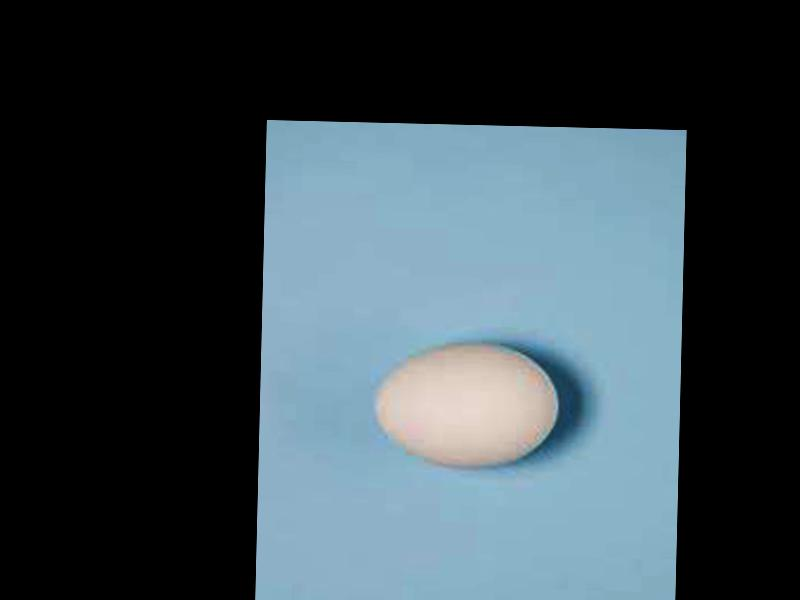Eggs: (371, 342, 560, 470)
